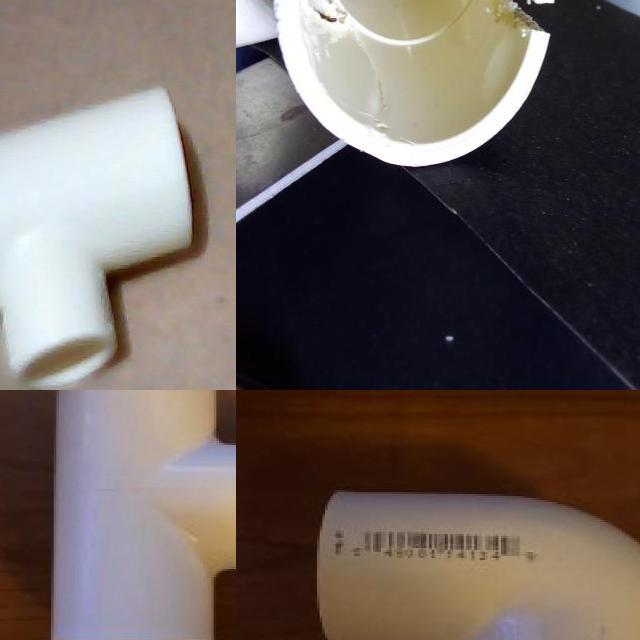Defective: (279, 0, 351, 63), (496, 0, 557, 33)
L Joint: (315, 491, 640, 640)
T Joint: (0, 87, 194, 390), (236, 0, 551, 170), (48, 390, 236, 640)
